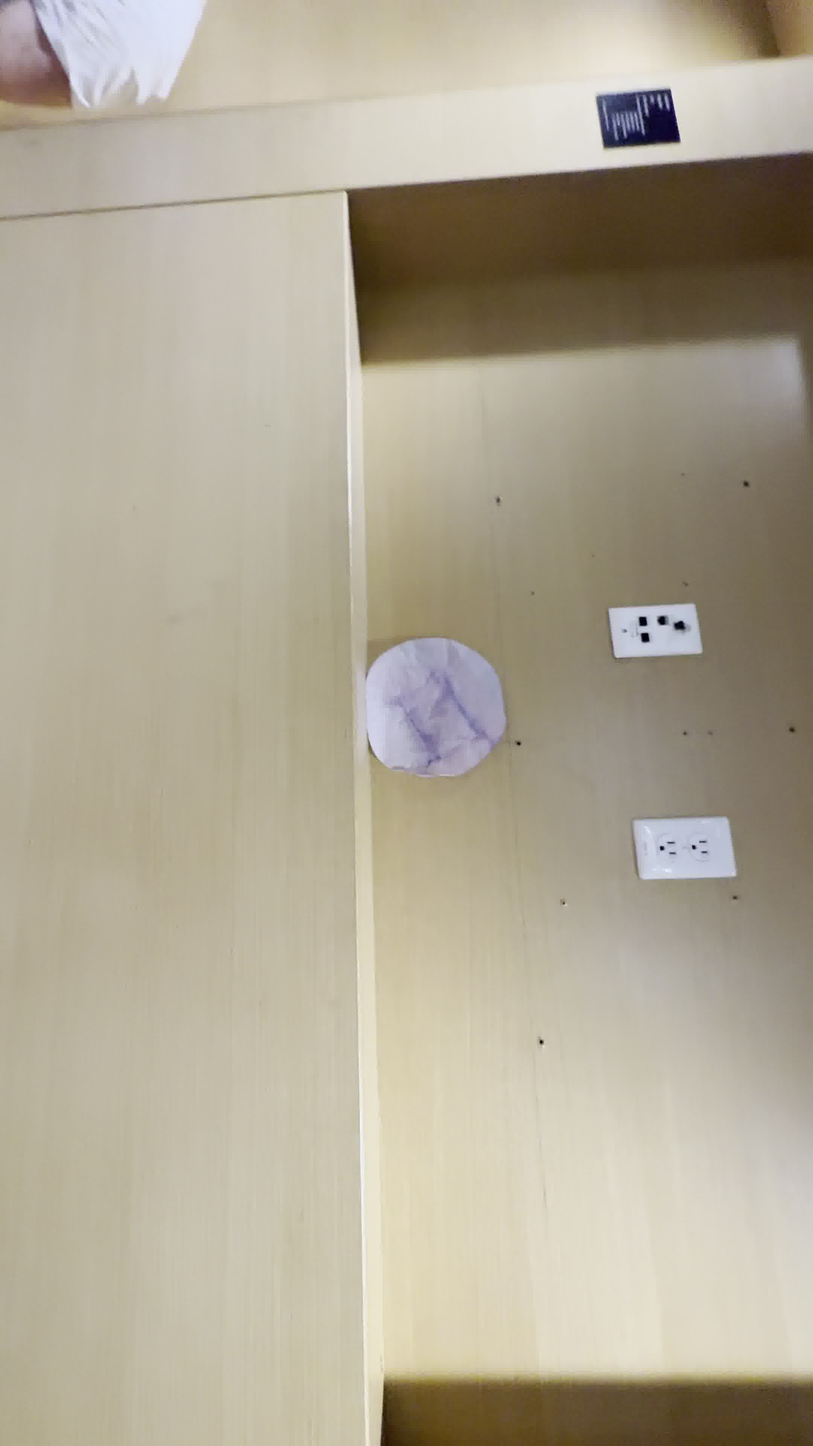Target: (365, 642, 505, 782)
